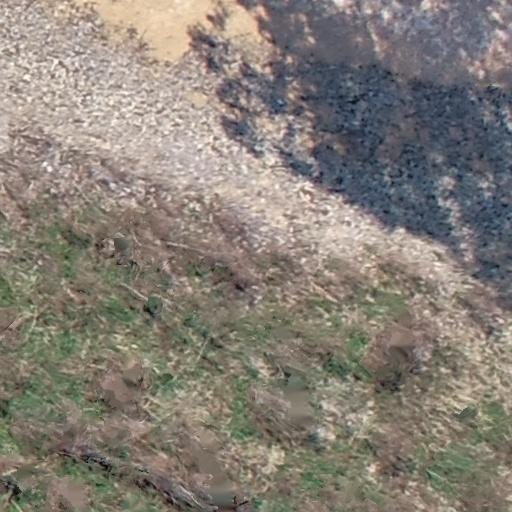stone: (307, 398, 346, 420), (11, 70, 37, 90), (298, 180, 317, 197), (41, 161, 60, 174)
